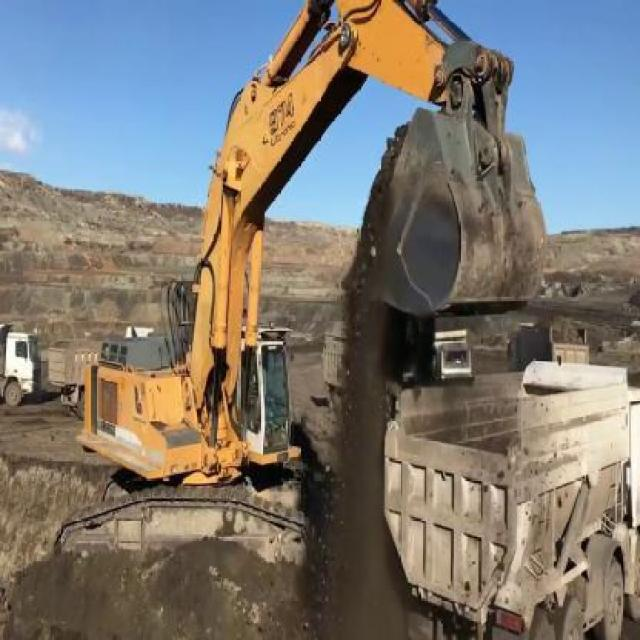dump_truck: (384, 357, 638, 638), (48, 328, 95, 414), (1, 320, 42, 412)
excavator: (51, 0, 554, 572)
